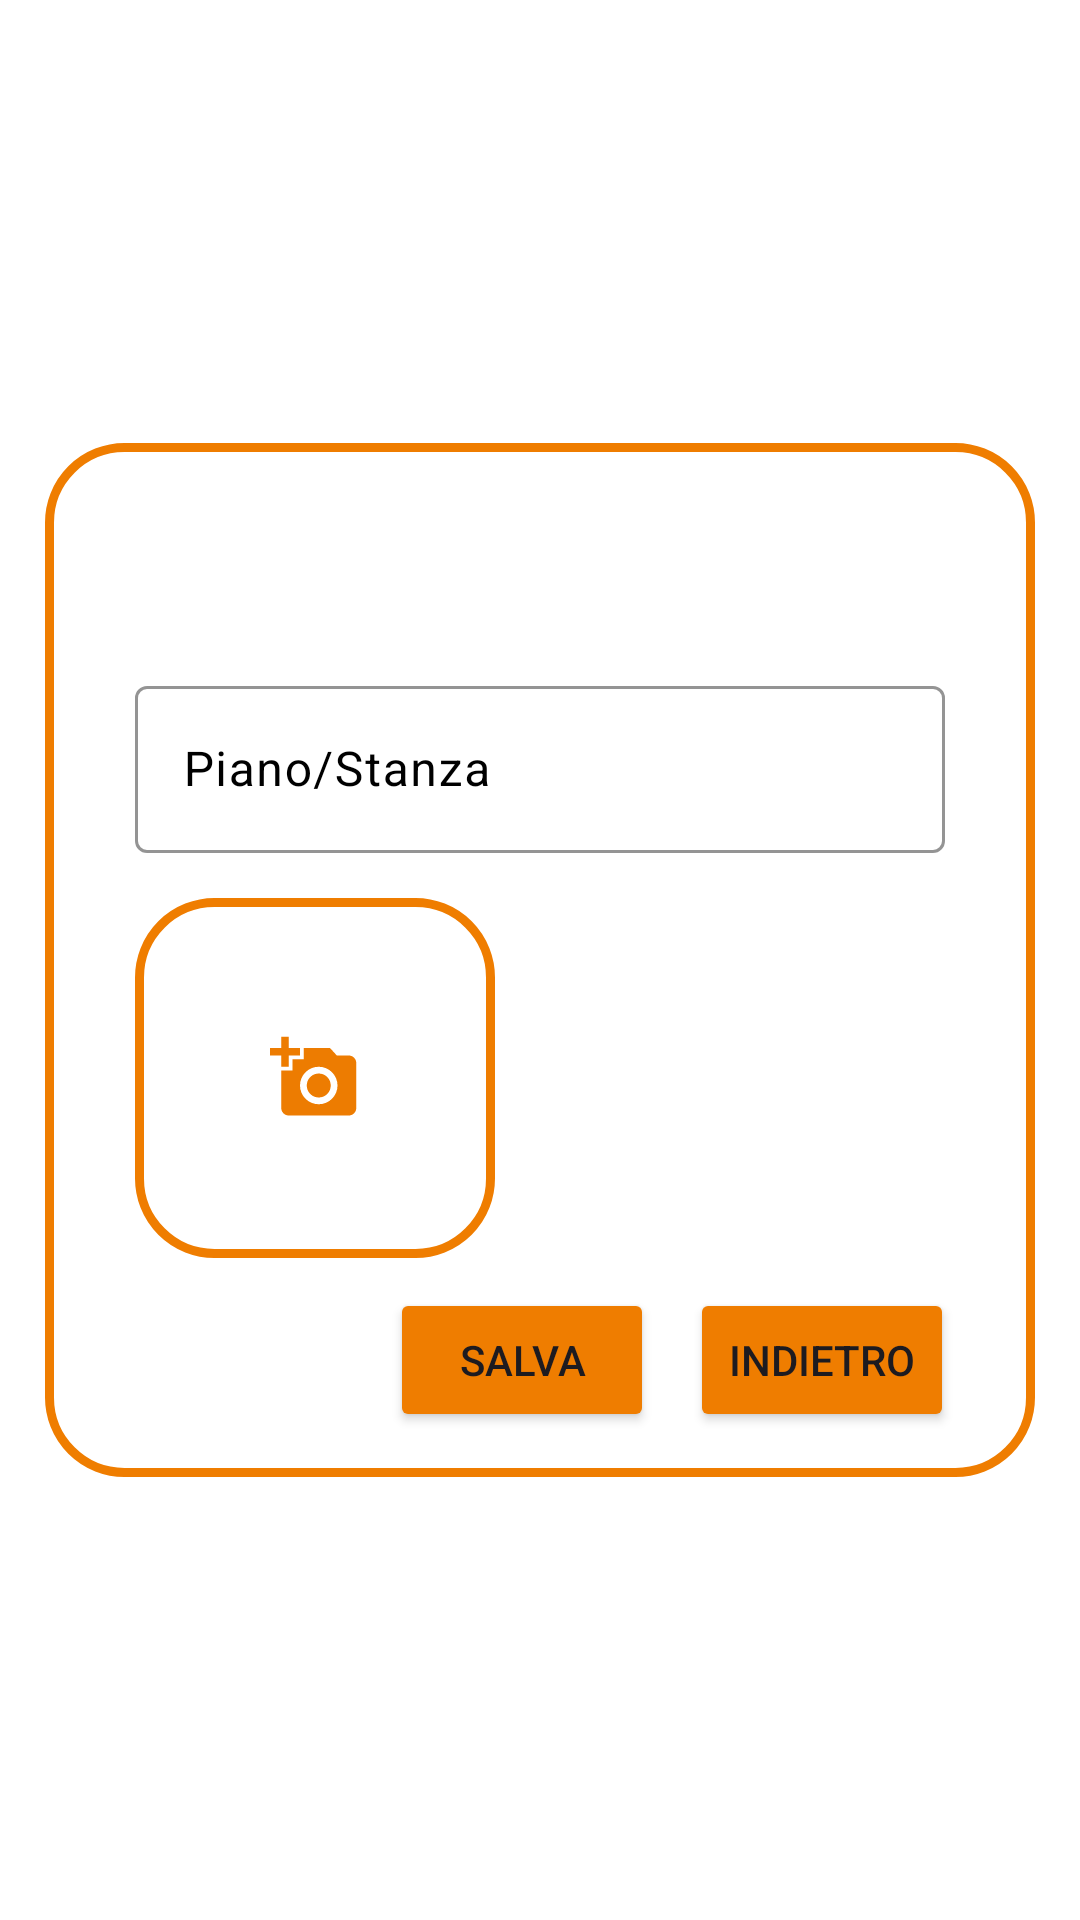

Named icons in this screenshot (1080w x 1920h) and their centers, point (x, y):
add photo: point (313, 1076)
